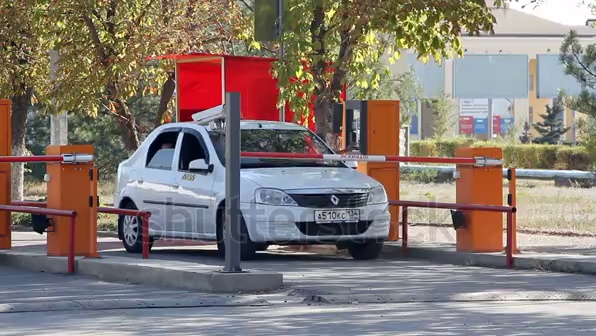licenseplate: (312, 206, 365, 224)
